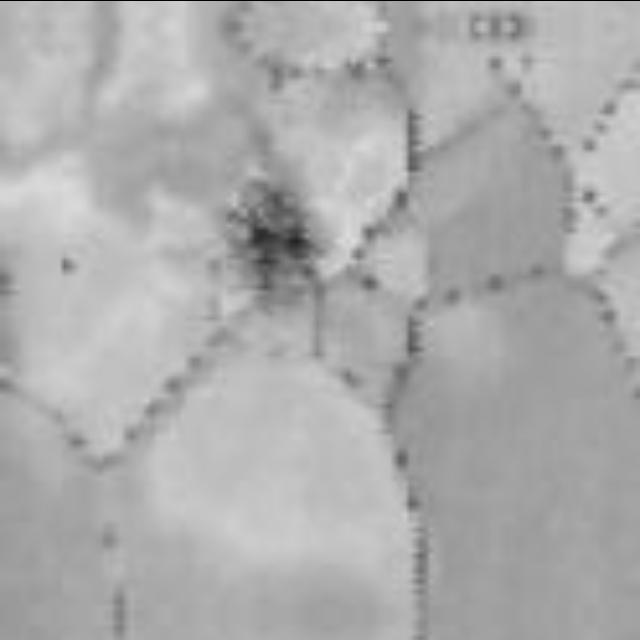good_void: (210, 162, 346, 310), (51, 249, 84, 283)
